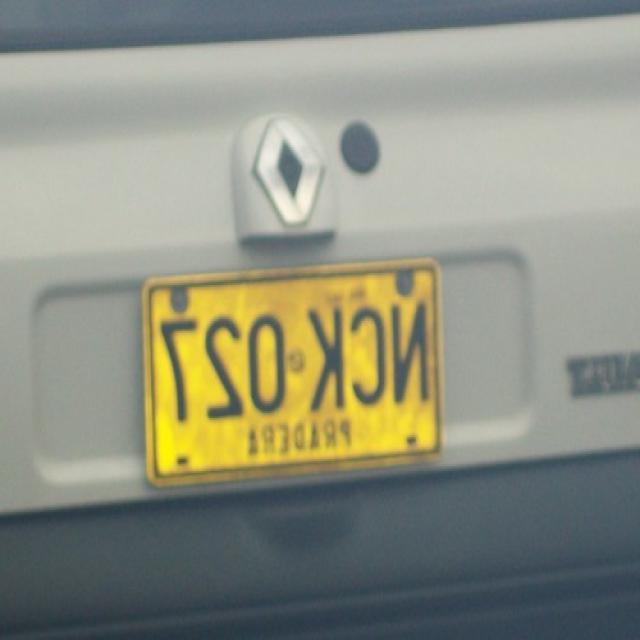placas: (146, 285, 434, 428)
